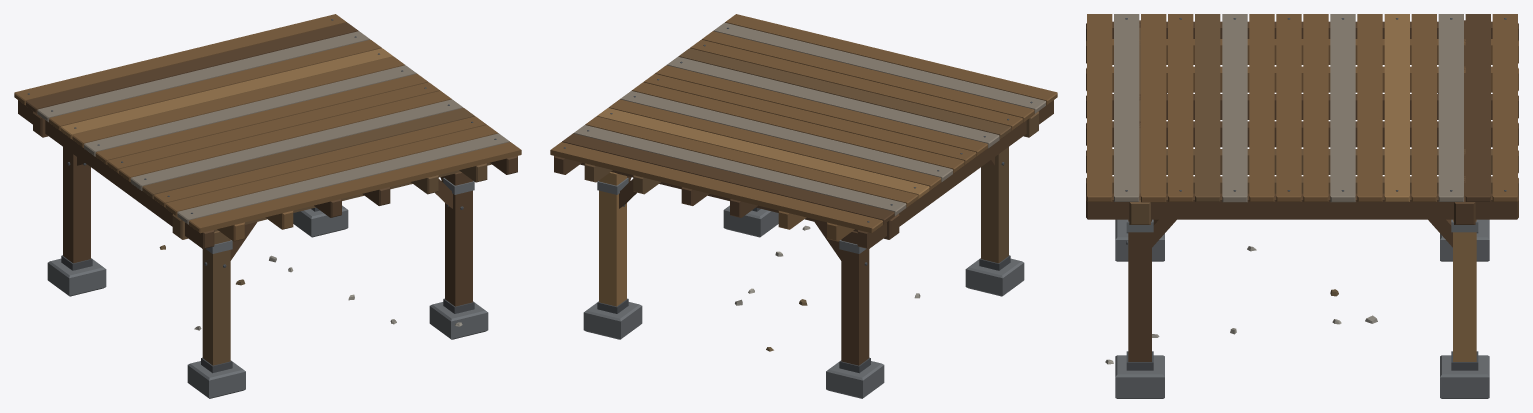
The model's file is SM_LPD_Struct_GantryPlatform_01.fbx.
The picture shows the model from 3 angles, left to right: view 1: azimuth 30°, elevation 25°; view 2: azimuth 150°, elevation 25°; view 3: azimuth 270°, elevation 25°; orthographic projection. The views are drawn at different scales.
Parts seen in each view (by area): view 1: SM_LPD_Struct_GantryPlatform_01; view 2: SM_LPD_Struct_GantryPlatform_01; view 3: SM_LPD_Struct_GantryPlatform_01.
Part boxes in pixels (left/top/right/bottom): SM_LPD_Struct_GantryPlatform_01: left=14, top=14, right=521, bottom=398; SM_LPD_Struct_GantryPlatform_01: left=550, top=14, right=1057, bottom=398; SM_LPD_Struct_GantryPlatform_01: left=1086, top=14, right=1518, bottom=398.
Size of the model in its own units: 4 by 2.21 by 4.
